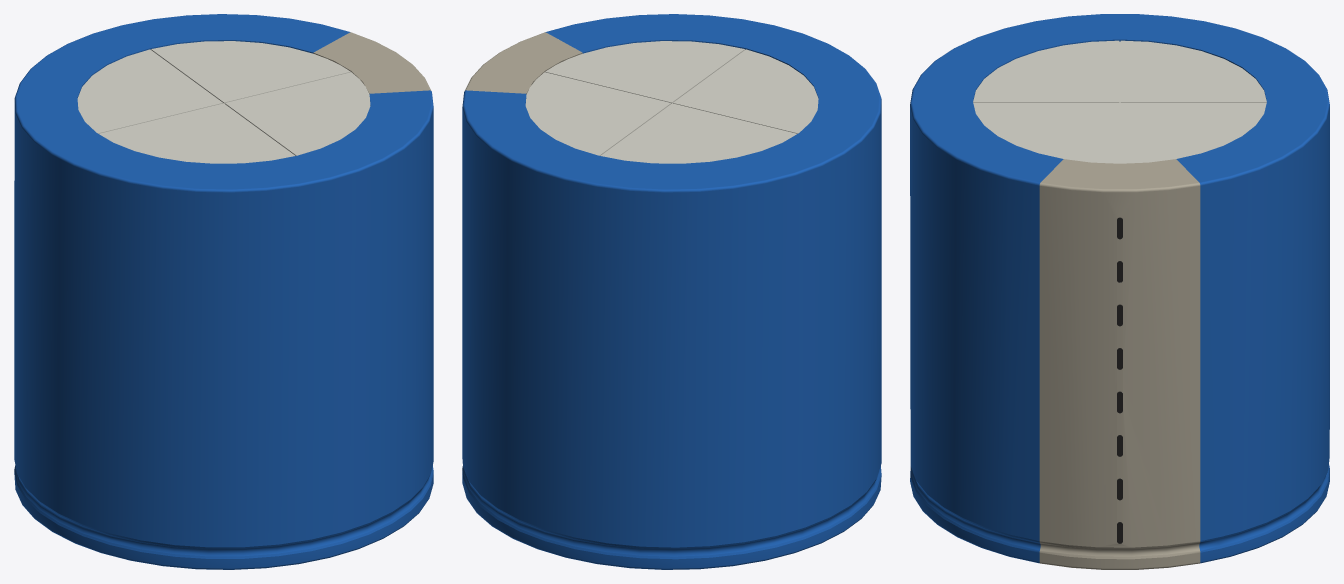
File: kc-cp_radial_d35.0mm_p10.00mm_snapin.glb
3 views of the same model, side by side, from view 1: azimuth 30°, elevation 25°; view 2: azimuth 150°, elevation 25°; view 3: azimuth 270°, elevation 25° (orthographic).
Parts seen in each view (by area): view 1: 0_0.16666666666666666_0.5_0, 0.6666666666666666_0.6666666666666666_0.5833333333333334_0.8, 0.4166666666666667_0.4166666666666667_0.3333333333333333_0; view 2: 0_0.16666666666666666_0.5_0, 0.6666666666666666_0.6666666666666666_0.5833333333333334_0.8, 0.4166666666666667_0.4166666666666667_0.3333333333333333_0; view 3: 0_0.16666666666666666_0.5_0, 0.4166666666666667_0.4166666666666667_0.3333333333333333_0, 0.6666666666666666_0.6666666666666666_0.5833333333333334_0.8, 0_0_0_0.
Boxes of the visible parts, x1,y1,x2,y2 form: 0_0.16666666666666666_0.5_0: (14,14,433,569); 0.6666666666666666_0.6666666666666666_0.5833333333333334_0.8: (77,41,370,163); 0.4166666666666667_0.4166666666666667_0.3333333333333333_0: (313,32,431,94); 0_0.16666666666666666_0.5_0: (462,14,881,569); 0.6666666666666666_0.6666666666666666_0.5833333333333334_0.8: (525,41,818,163); 0.4166666666666667_0.4166666666666667_0.3333333333333333_0: (465,32,582,94); 0_0.16666666666666666_0.5_0: (910,14,1329,563); 0.4166666666666667_0.4166666666666667_0.3333333333333333_0: (1039,159,1200,569); 0.6666666666666666_0.6666666666666666_0.5833333333333334_0.8: (973,40,1266,163); 0_0_0_0: (1117,217,1122,543).
Bounding box in the file's own units: 3.5 × 3.7 × 3.5.
